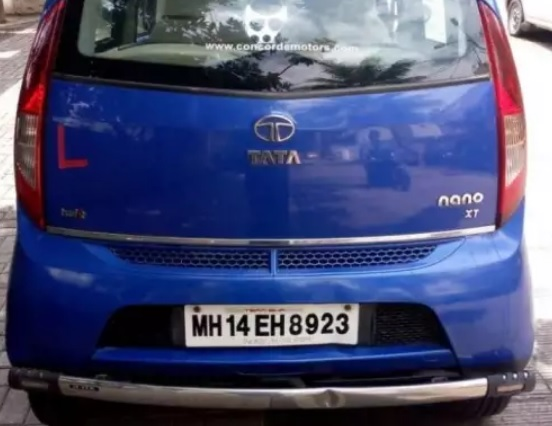licenseplate: (183, 302, 364, 348)
